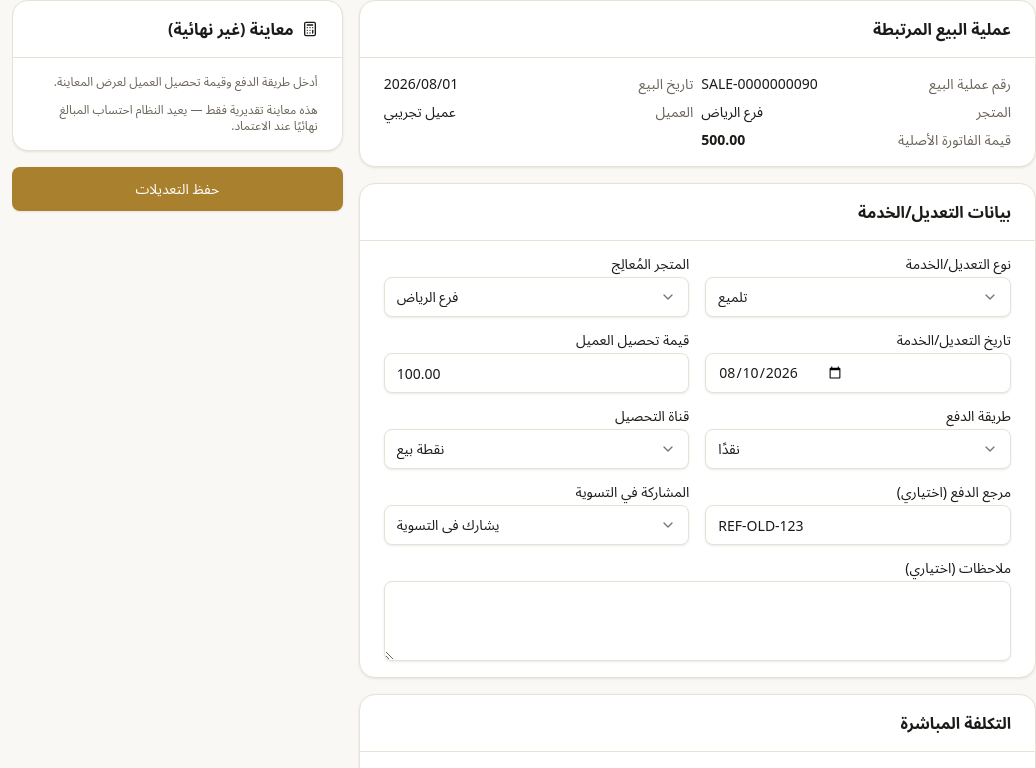
Scenario: AdjustmentEntryForm — Hotfix 6.1.1 item 11: zero-charge state machine › (A continued) / (B) paid -> free -> paid: nothing stale reappears — method/channel/reference/settlement must all be re-entered from scratch
This screenshot has width=1036, height=768.
Replace the text in the number field with "0". click: (537,373)
box: x1=384 y1=353 x2=689 y2=393
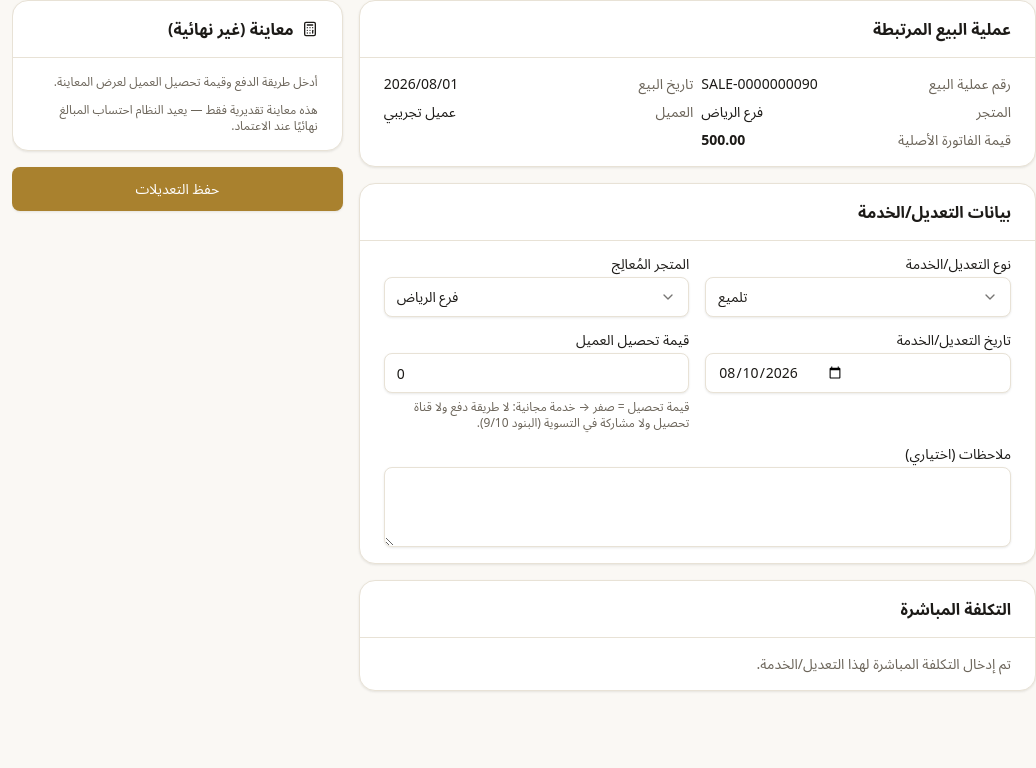
Expected: the field showing "REF-OLD-123" is not shown
Replace the text in the number field with "50". click: (537,373)
box: x1=384 y1=353 x2=689 y2=393
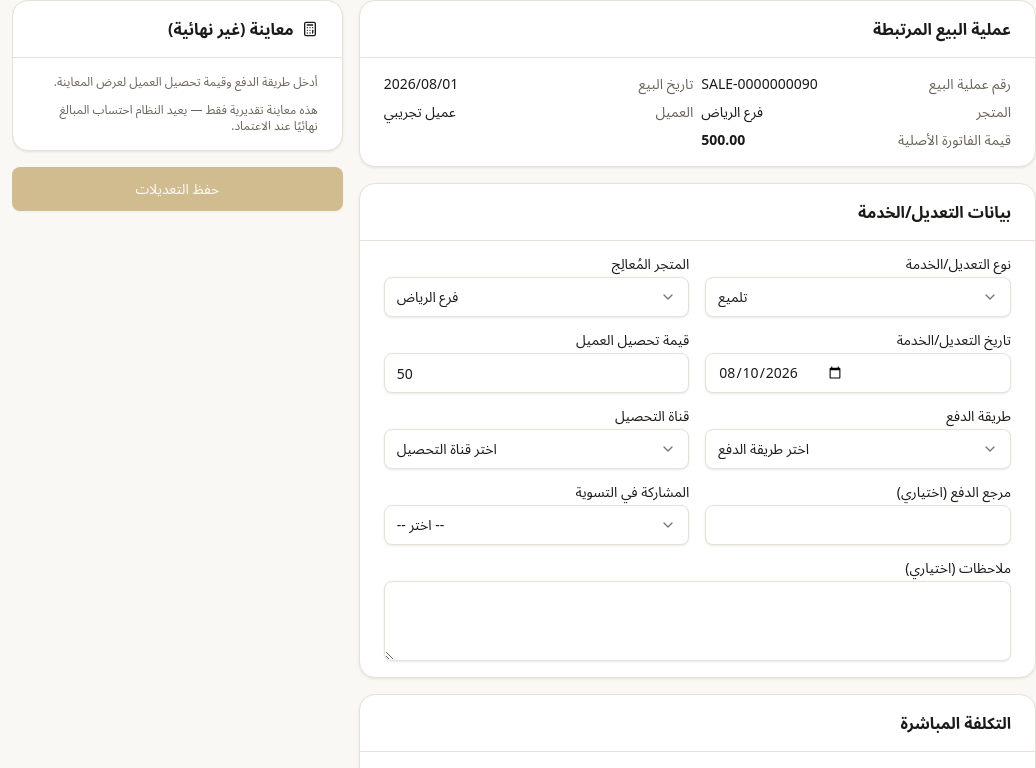
Expected: the text "اختر طريقة الدفع" is shown, x1=718 y1=439 x2=809 y2=459
Expected: the text "اختر قناة التحصيل" is shown, x1=397 y1=439 x2=497 y2=459
Expected: the text "-- اختر --" is shown, x1=397 y1=515 x2=444 y2=535
